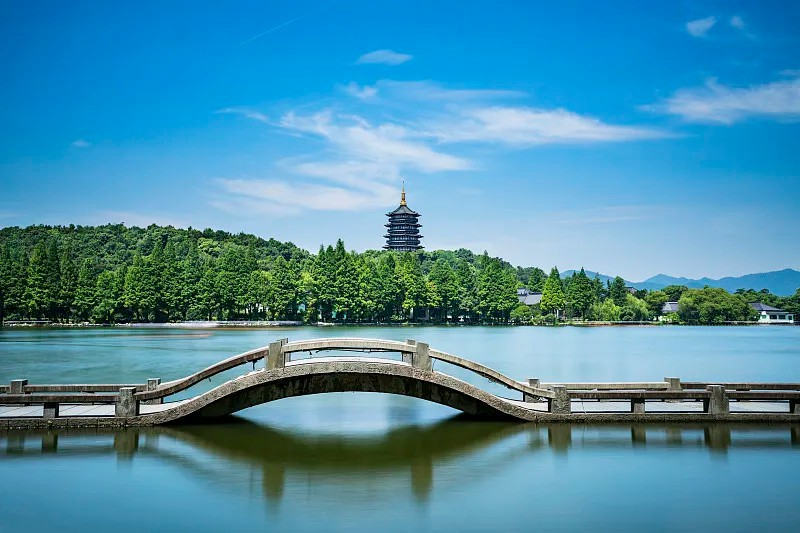Leifeng: (379, 178, 427, 256)
